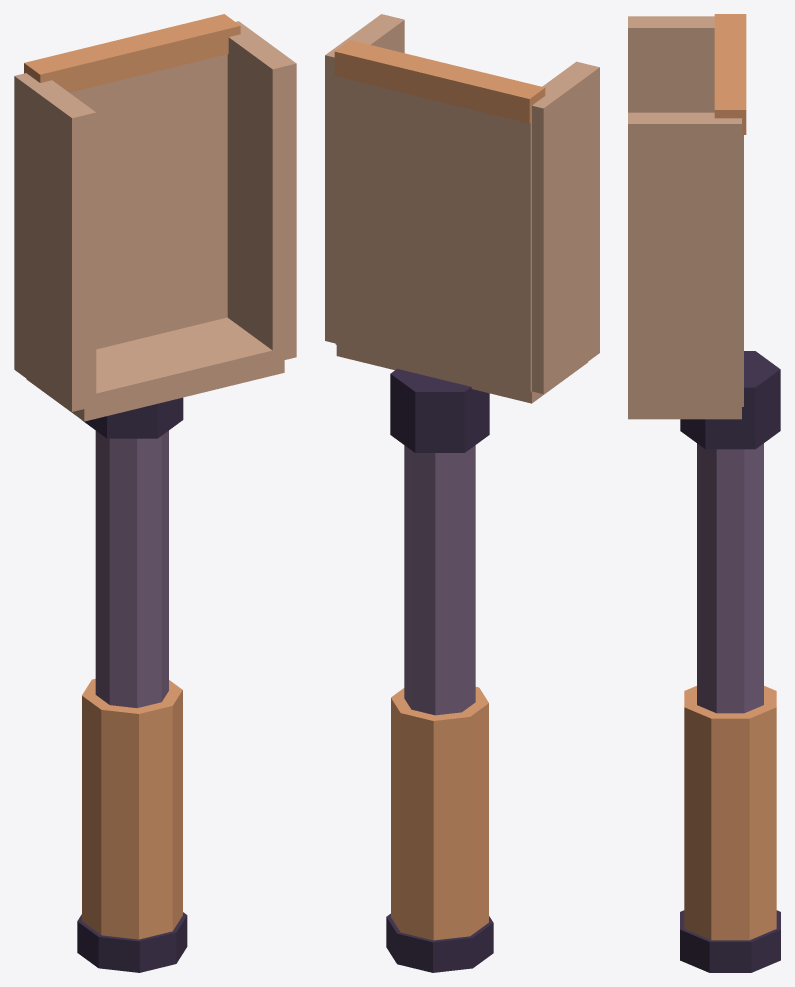
File: sample_scoop.obj
3 renders of one model, left to right at view 1: azimuth 30°, elevation 25°; view 2: azimuth 150°, elevation 25°; view 3: azimuth 270°, elevation 25°, orthographic. The views are drawn at different scales.
Visible parts, largest first — view 1: sample_scoop_clay_sand, sample_scoop_warm_orange, sample_scoop_mauve, sample_scoop_deep_purple; view 2: sample_scoop_clay_sand, sample_scoop_warm_orange, sample_scoop_mauve, sample_scoop_deep_purple; view 3: sample_scoop_clay_sand, sample_scoop_warm_orange, sample_scoop_mauve, sample_scoop_deep_purple.
Part boxes in pixels (left/top/right/bottom): sample_scoop_clay_sand: left=14, top=21, right=296, bottom=421; sample_scoop_warm_orange: left=24, top=14, right=240, bottom=939; sample_scoop_mauve: left=95, top=430, right=168, bottom=707; sample_scoop_deep_purple: left=77, top=397, right=187, bottom=972; sample_scoop_clay_sand: left=325, top=14, right=599, bottom=403; sample_scoop_warm_orange: left=334, top=40, right=545, bottom=940; sample_scoop_mauve: left=404, top=445, right=475, bottom=715; sample_scoop_deep_purple: left=386, top=369, right=493, bottom=972; sample_scoop_clay_sand: left=628, top=16, right=743, bottom=419; sample_scoop_warm_orange: left=684, top=14, right=776, bottom=940; sample_scoop_mauve: left=697, top=443, right=763, bottom=713; sample_scoop_deep_purple: left=680, top=351, right=780, bottom=972.
Bounding box in the file's own units: 0.112 × 0.4315 × 0.0672.
